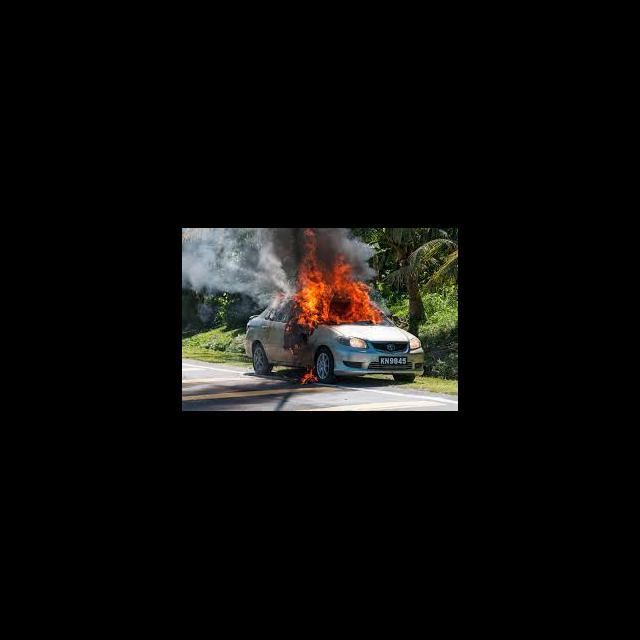Fire: (288, 228, 388, 334), (297, 367, 321, 388)
Smoke: (182, 228, 289, 314)
